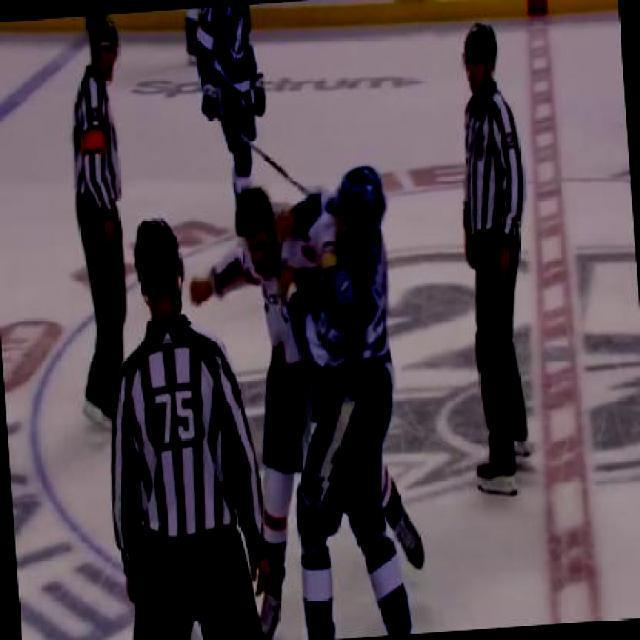fight: (185, 163, 428, 639)
non-fight: (95, 212, 272, 638), (434, 17, 548, 500), (50, 14, 150, 430)
